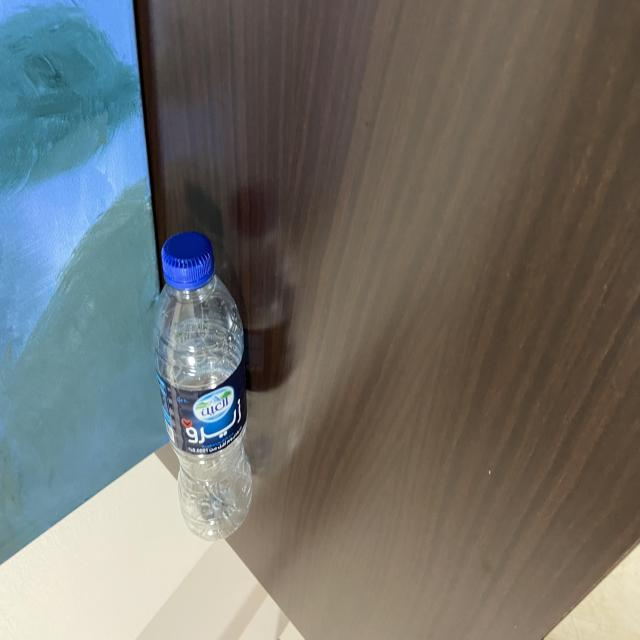plastic: (158, 232, 252, 542)
